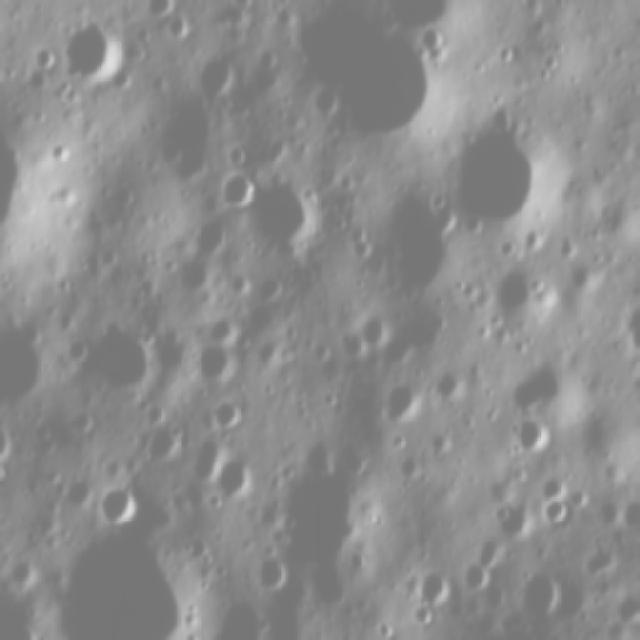crater: (289, 5, 449, 144), (448, 128, 572, 225), (244, 177, 324, 258), (48, 20, 129, 94), (507, 354, 590, 414), (92, 329, 160, 396), (496, 260, 550, 326), (209, 454, 260, 504), (213, 164, 264, 213), (192, 338, 242, 387), (523, 569, 571, 617), (97, 484, 143, 527), (256, 549, 298, 593), (194, 55, 234, 100), (151, 425, 191, 466), (378, 380, 420, 418), (212, 395, 246, 440), (515, 421, 559, 454), (423, 565, 455, 606), (306, 86, 342, 120), (476, 534, 510, 569), (438, 372, 468, 401), (544, 473, 568, 504), (422, 25, 448, 53), (544, 496, 570, 524), (466, 562, 492, 590), (252, 48, 279, 74), (34, 43, 57, 72), (571, 486, 592, 509)
